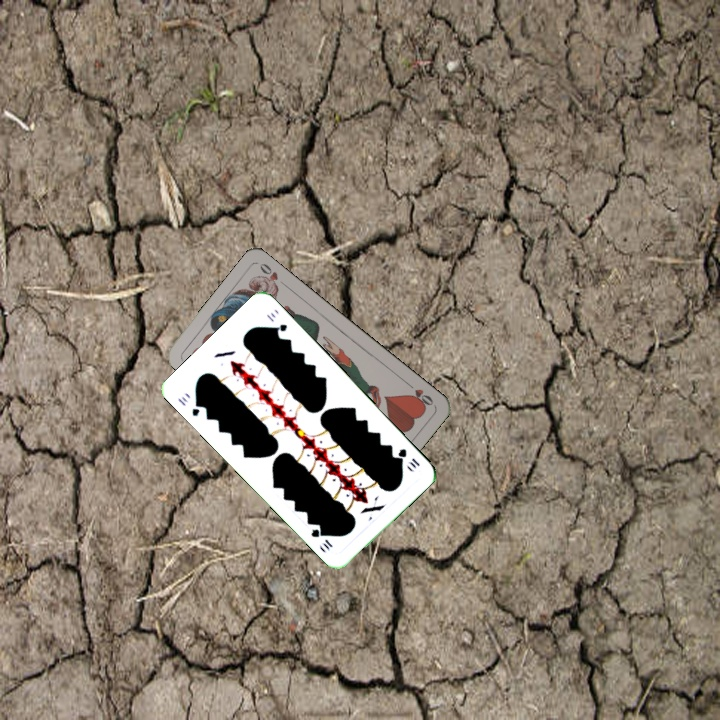G10: (173, 392, 205, 419), (394, 445, 422, 470)
HO: (402, 378, 436, 410)
